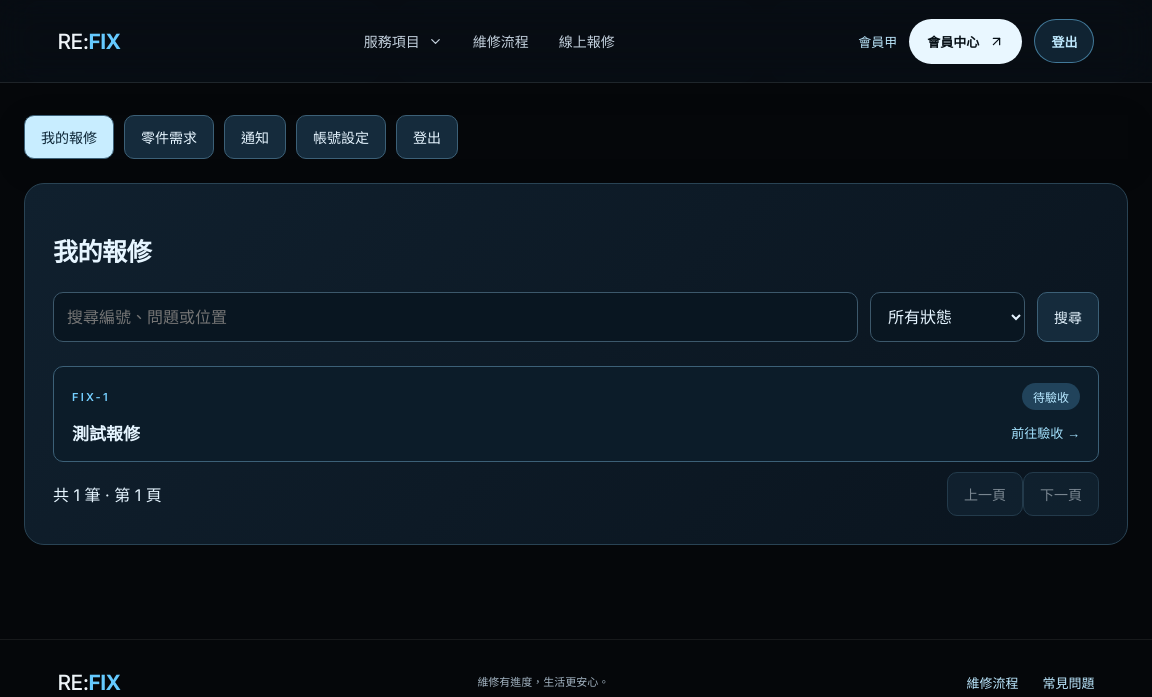
Scenario: refreshes the summary immediately after accepting a repair
(page scrolled)
Click the button "FIX-1 待驗收 測試報修 前往驗收 →" at (91, 397), box [53, 366, 1099, 462]
(page scrolled)
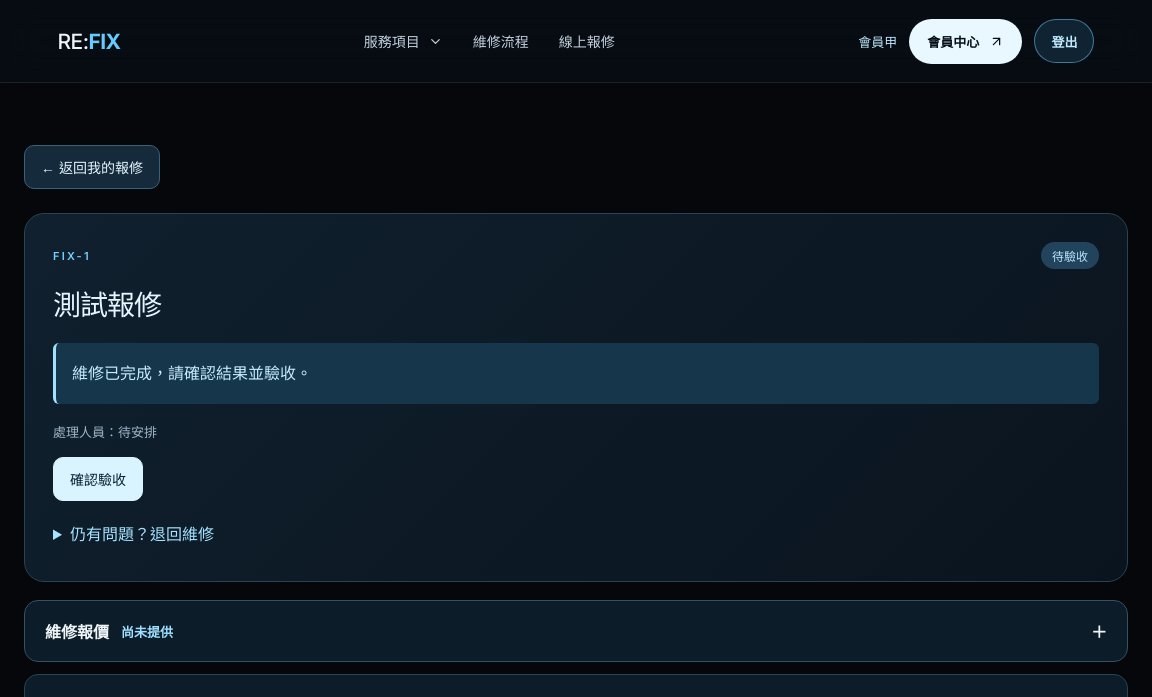
Click the button "確認驗收" at (98, 479), box [53, 457, 143, 501]
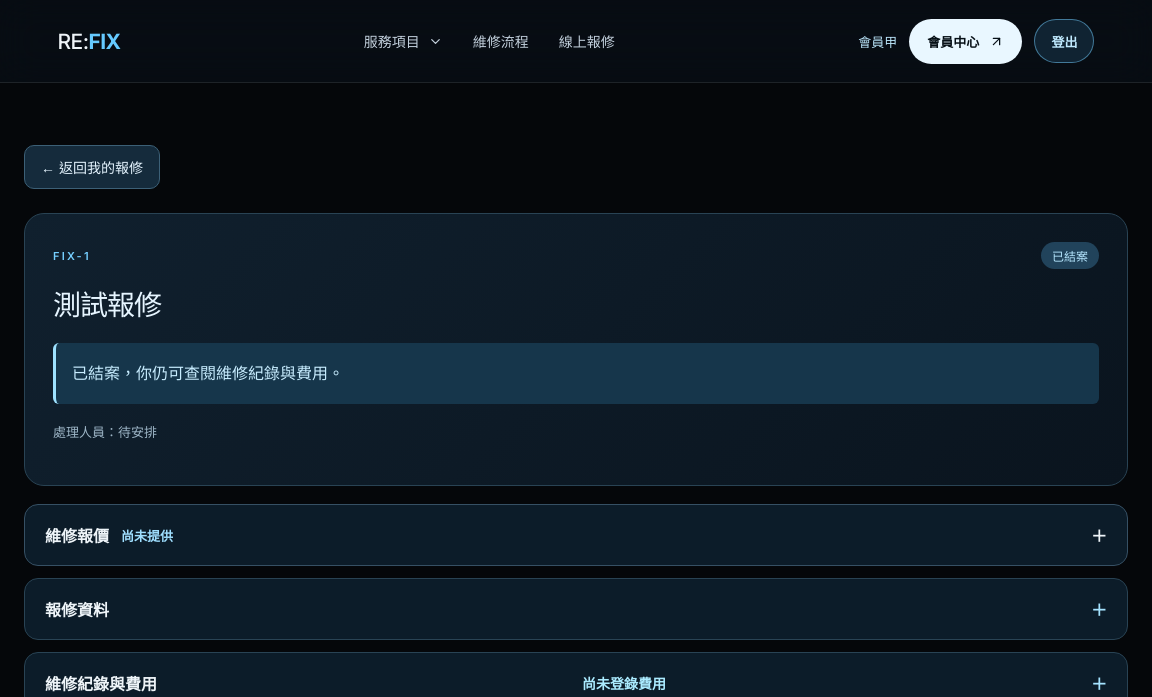
Now the text "已結案，你仍可查閱維修紀錄與費用。" is shown, box [53, 343, 1099, 404]
Click the button "← 返回我的報修" at (92, 167), box [24, 145, 160, 189]
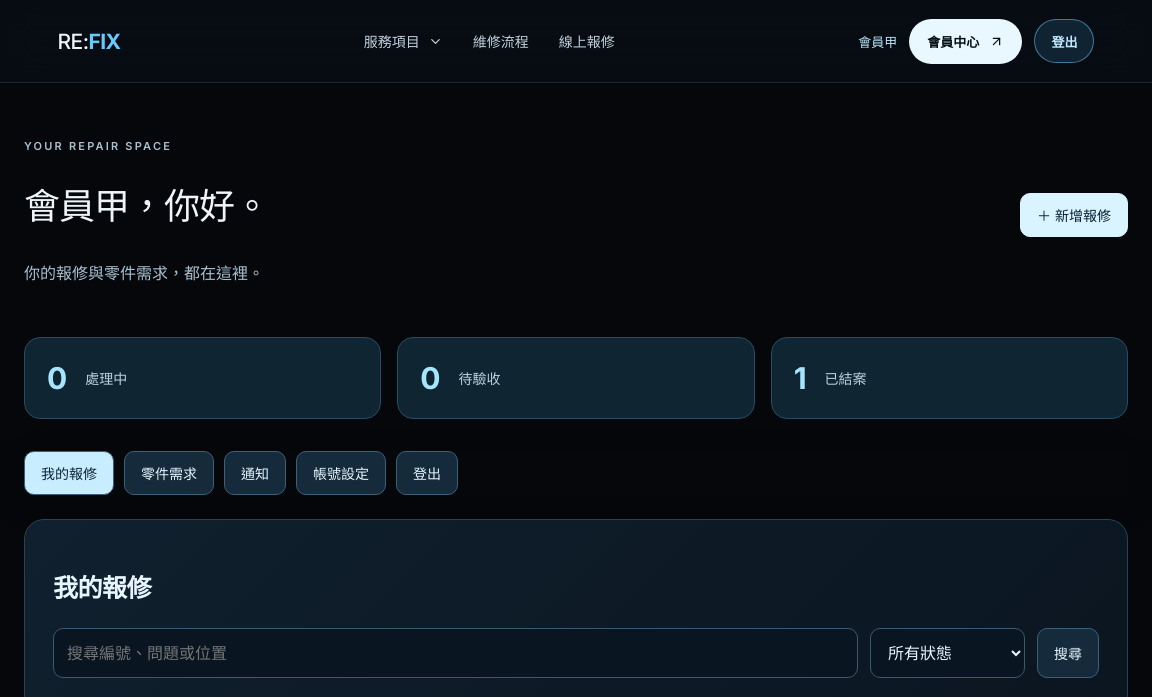
Now the heading "我的報修" is shown, box [53, 573, 151, 603]
